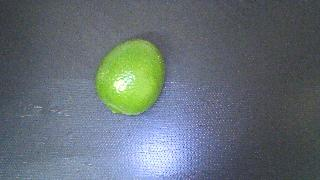EXPORTACION: (95, 39, 165, 115)
